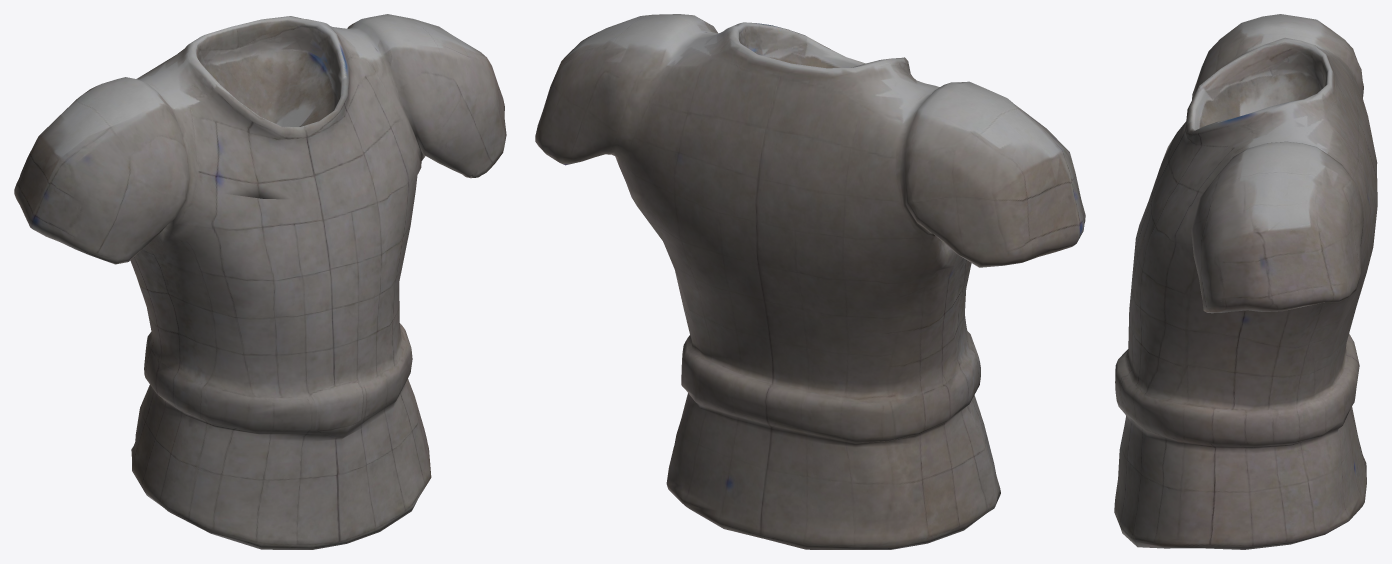
The model's file is body-leather-base-01_backup.glb.
3 views of the same model, side by side, from view 1: azimuth 30°, elevation 25°; view 2: azimuth 150°, elevation 25°; view 3: azimuth 270°, elevation 25° (orthographic). The views are drawn at different scales.
Visible parts, largest first — view 1: file1; view 2: file1; view 3: file1.
Boxes of the visible parts, <box> form: file1: <box>14,14,506,549</box>; file1: <box>535,14,1085,549</box>; file1: <box>1114,14,1377,549</box>.
Bounding box in the file's own units: 1.98 × 1.84 × 0.9614.
Materials: 1 (1 with a texture image).
